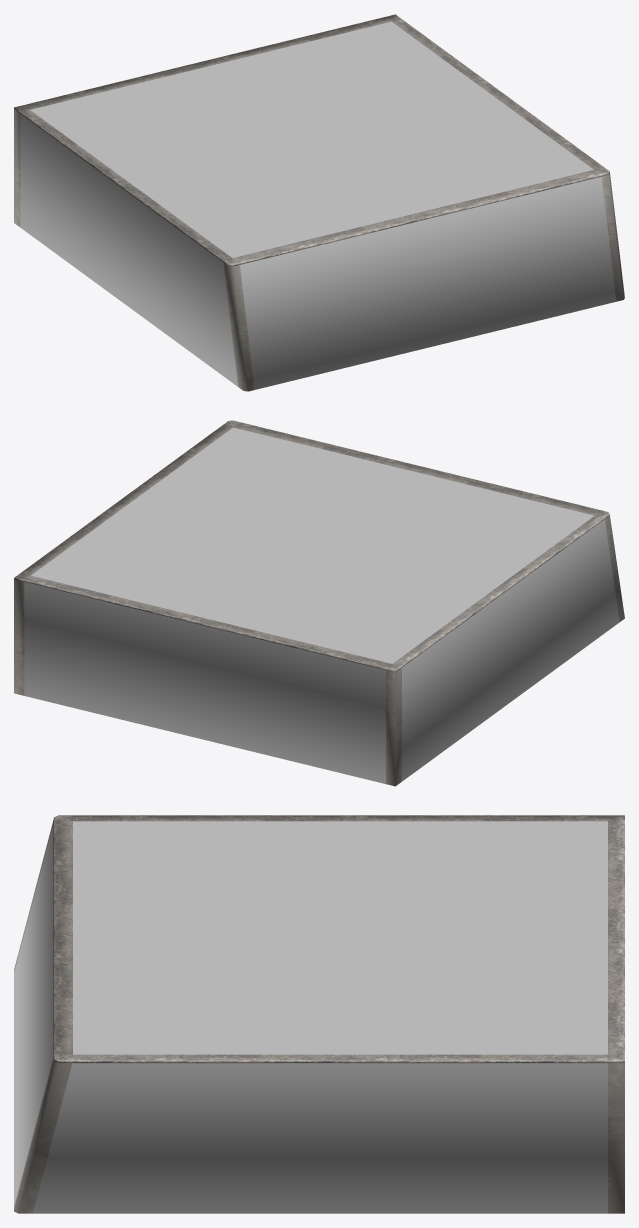
The model's file is JpHouseJ_StoneWall_02a.fbx.
3 renders of one model, top to bottom at view 1: azimuth 30°, elevation 25°; view 2: azimuth 150°, elevation 25°; view 3: azimuth 270°, elevation 25°, orthographic. The views are drawn at different scales.
Visible parts, largest first — view 1: JpHouseJ_StoneWall_02a; view 2: JpHouseJ_StoneWall_02a; view 3: JpHouseJ_StoneWall_02a.
Part boxes in pixels (x1,y1,x2,y2): JpHouseJ_StoneWall_02a: (14, 14, 624, 391); JpHouseJ_StoneWall_02a: (14, 420, 624, 786); JpHouseJ_StoneWall_02a: (14, 815, 624, 1213).
Bounding box in the file's own units: 13.31 × 3.85 × 13.98.
